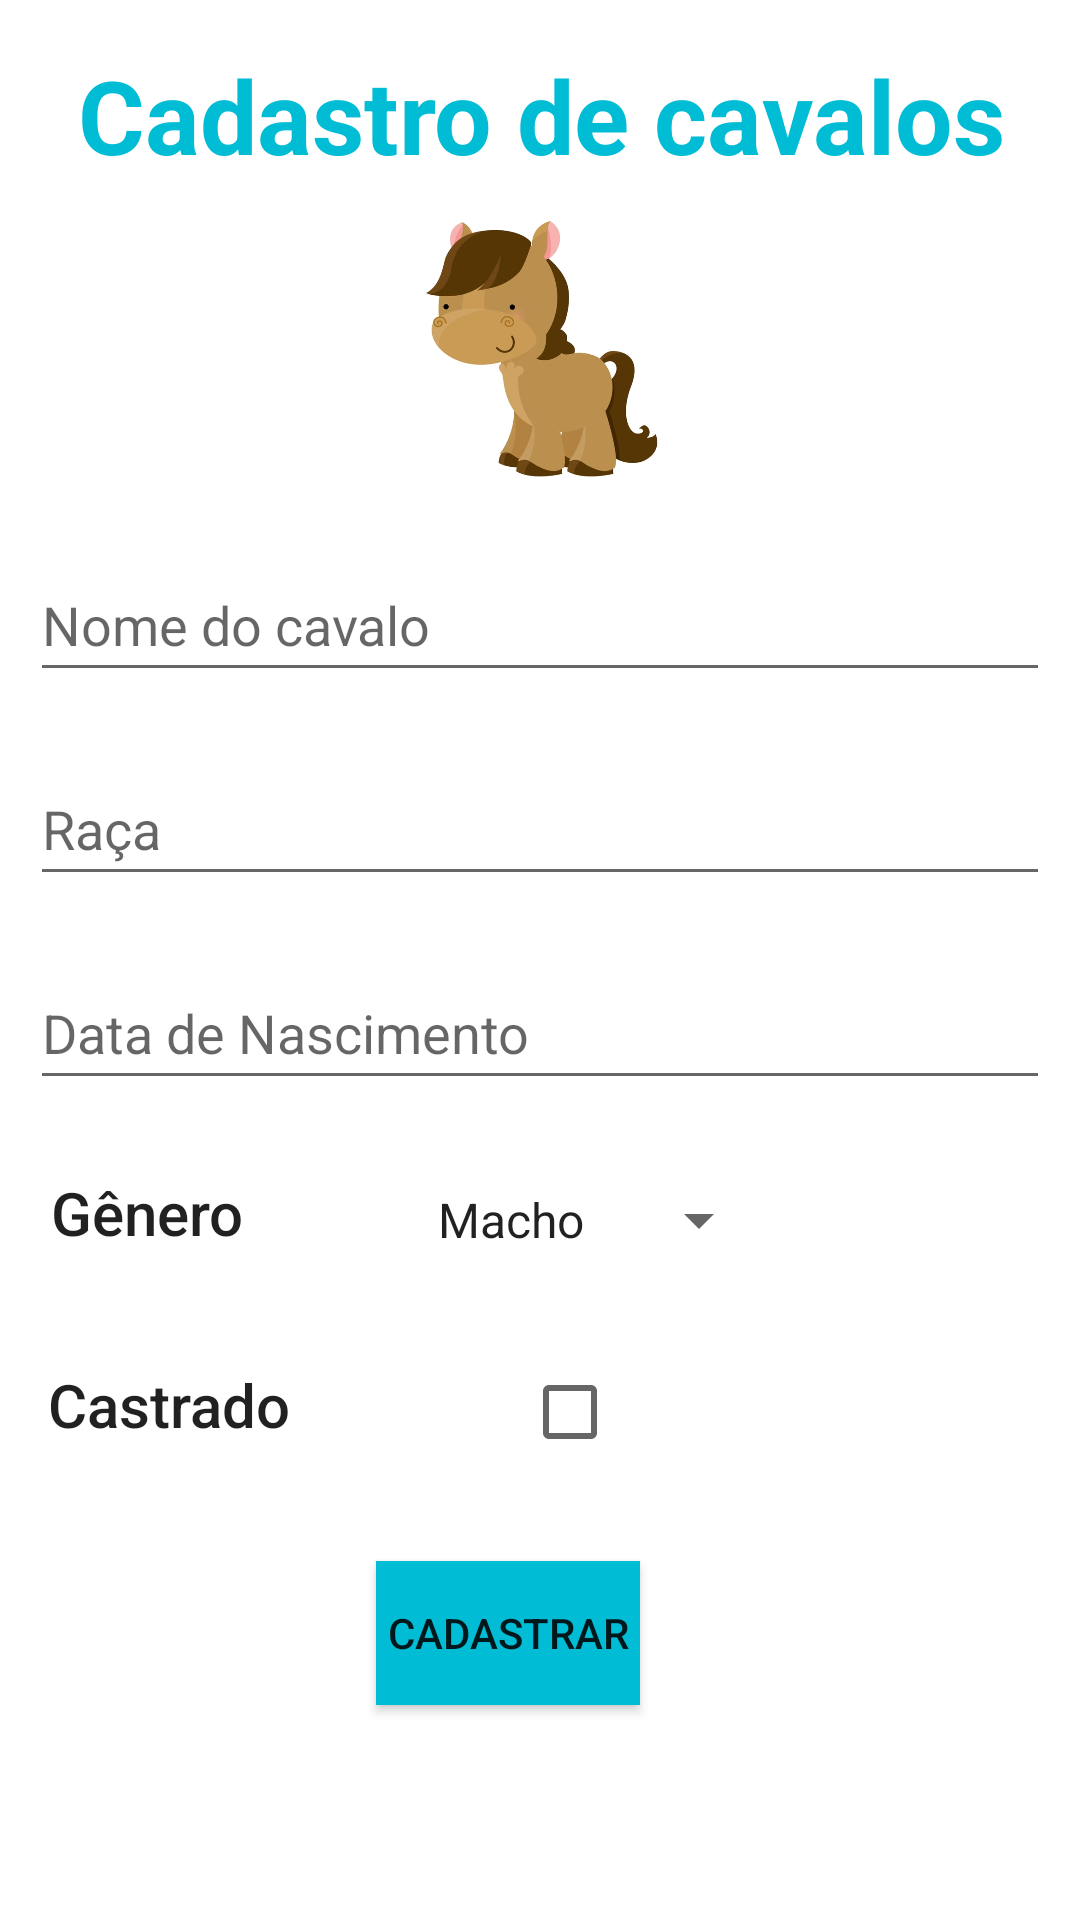

Icons on this 1080w x 1920h Android screen, each with its box as (x1, y1, x2, y2):
horse: (426, 221, 658, 477)
